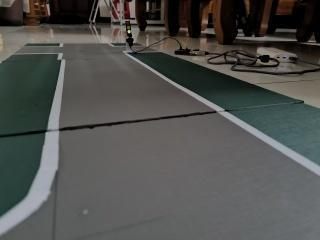green: (122, 15, 135, 43)
